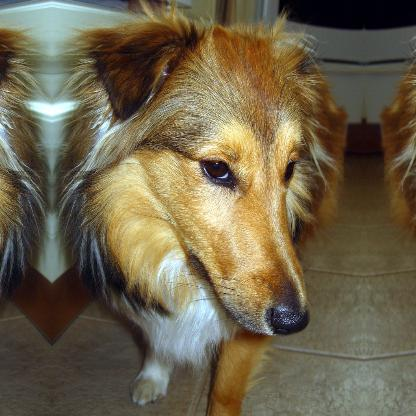Dog: (52, 0, 349, 415)
